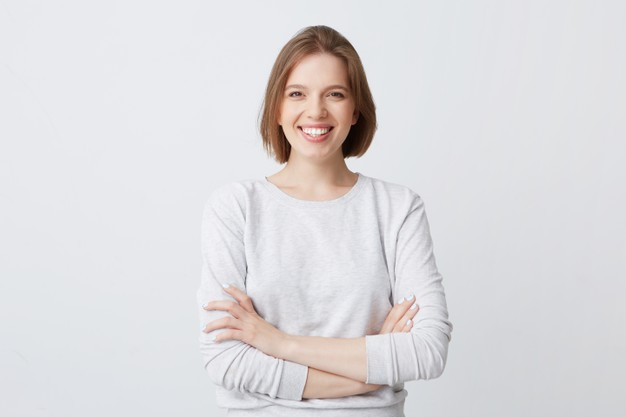Without Helmet: (251, 23, 379, 183)
